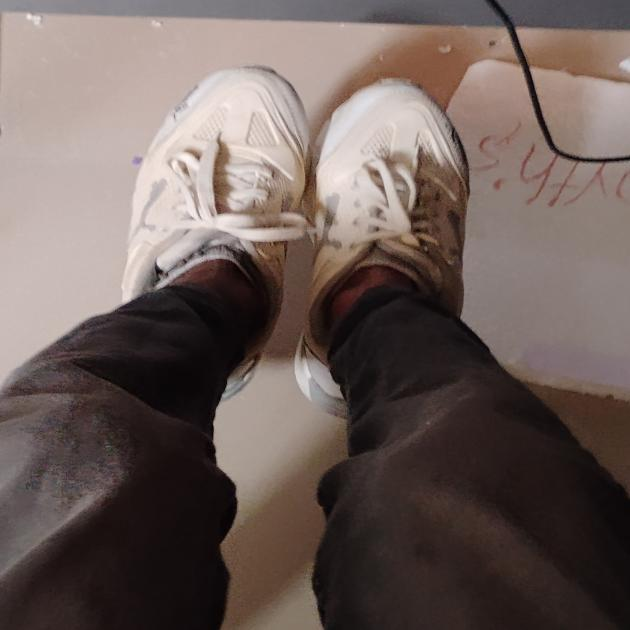shoes: (84, 44, 513, 363)
